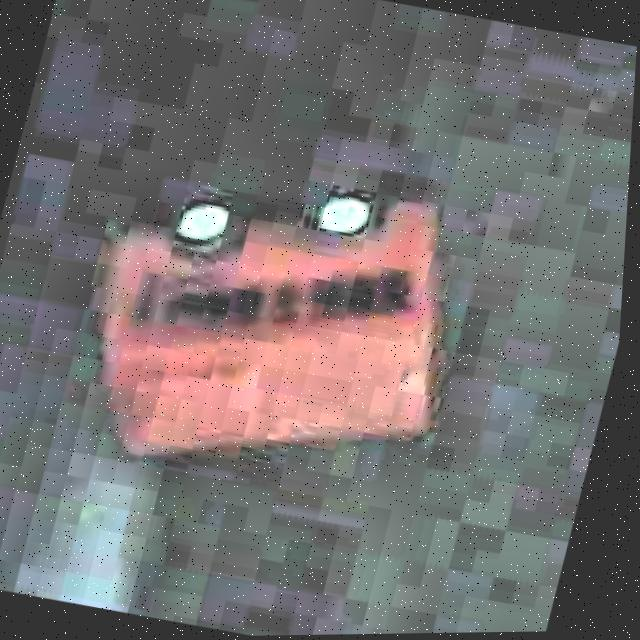bus: (43, 128, 504, 523)
